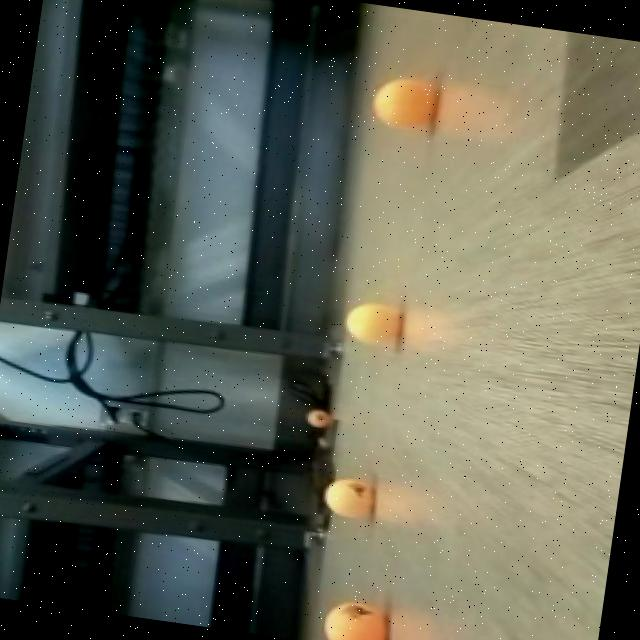ping-pong-ball: (361, 70, 442, 138), (334, 291, 409, 356), (314, 595, 397, 640), (314, 468, 374, 526), (301, 406, 338, 432)
